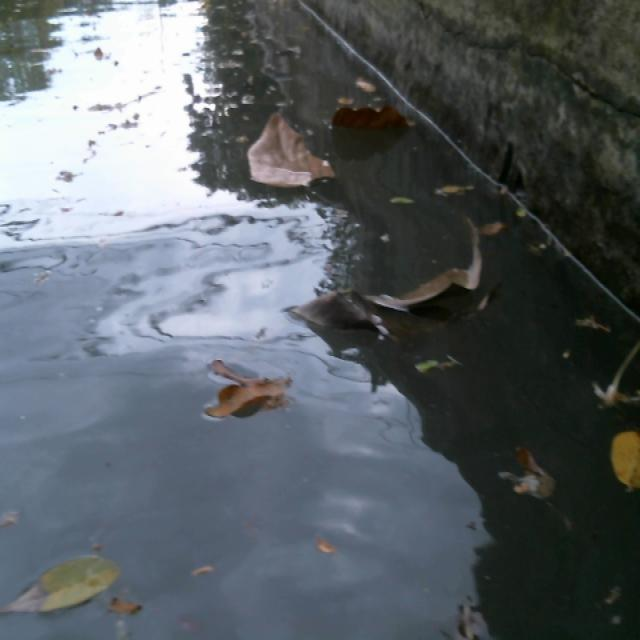Big-leaf: (282, 207, 508, 351), (193, 358, 302, 437), (235, 113, 337, 196), (329, 103, 415, 134)
Small-leaf: (0, 536, 124, 634), (481, 441, 572, 518), (607, 418, 640, 481), (422, 169, 475, 201), (559, 302, 608, 336), (187, 558, 226, 598), (109, 593, 145, 622), (525, 232, 555, 264), (385, 192, 417, 219), (355, 74, 380, 96), (313, 535, 341, 554)
